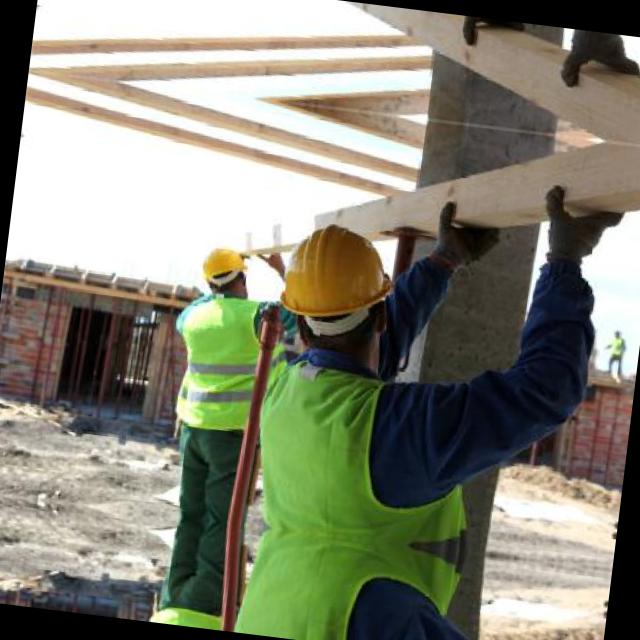helmet: (262, 208, 411, 352), (188, 232, 255, 302)
